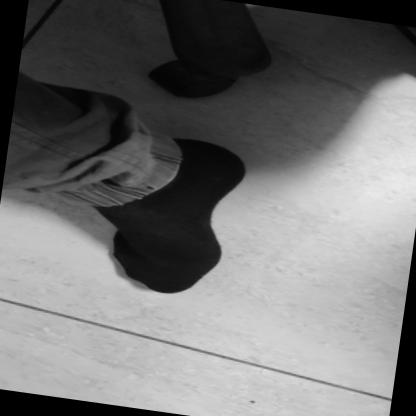ankle: (167, 183, 175, 186)
heel: (203, 145, 209, 148)
left_foot: (107, 132, 251, 308)
pinky: (117, 240, 123, 244)
toe: (164, 288, 172, 293)
